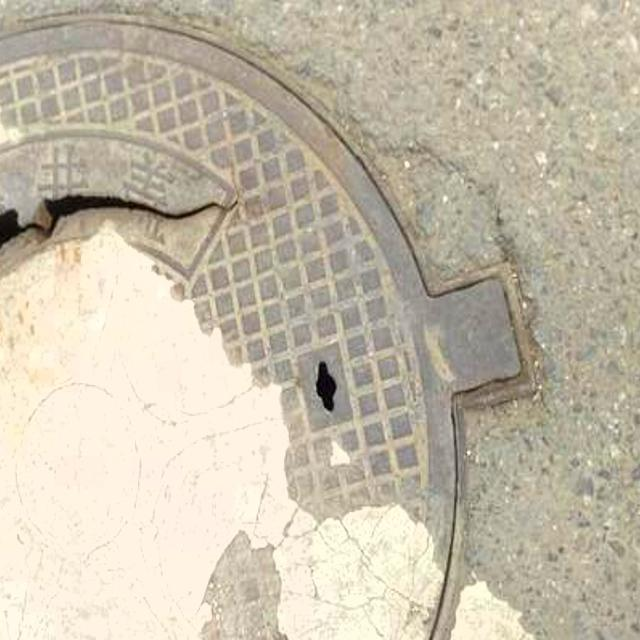broke: (0, 0, 478, 640)
